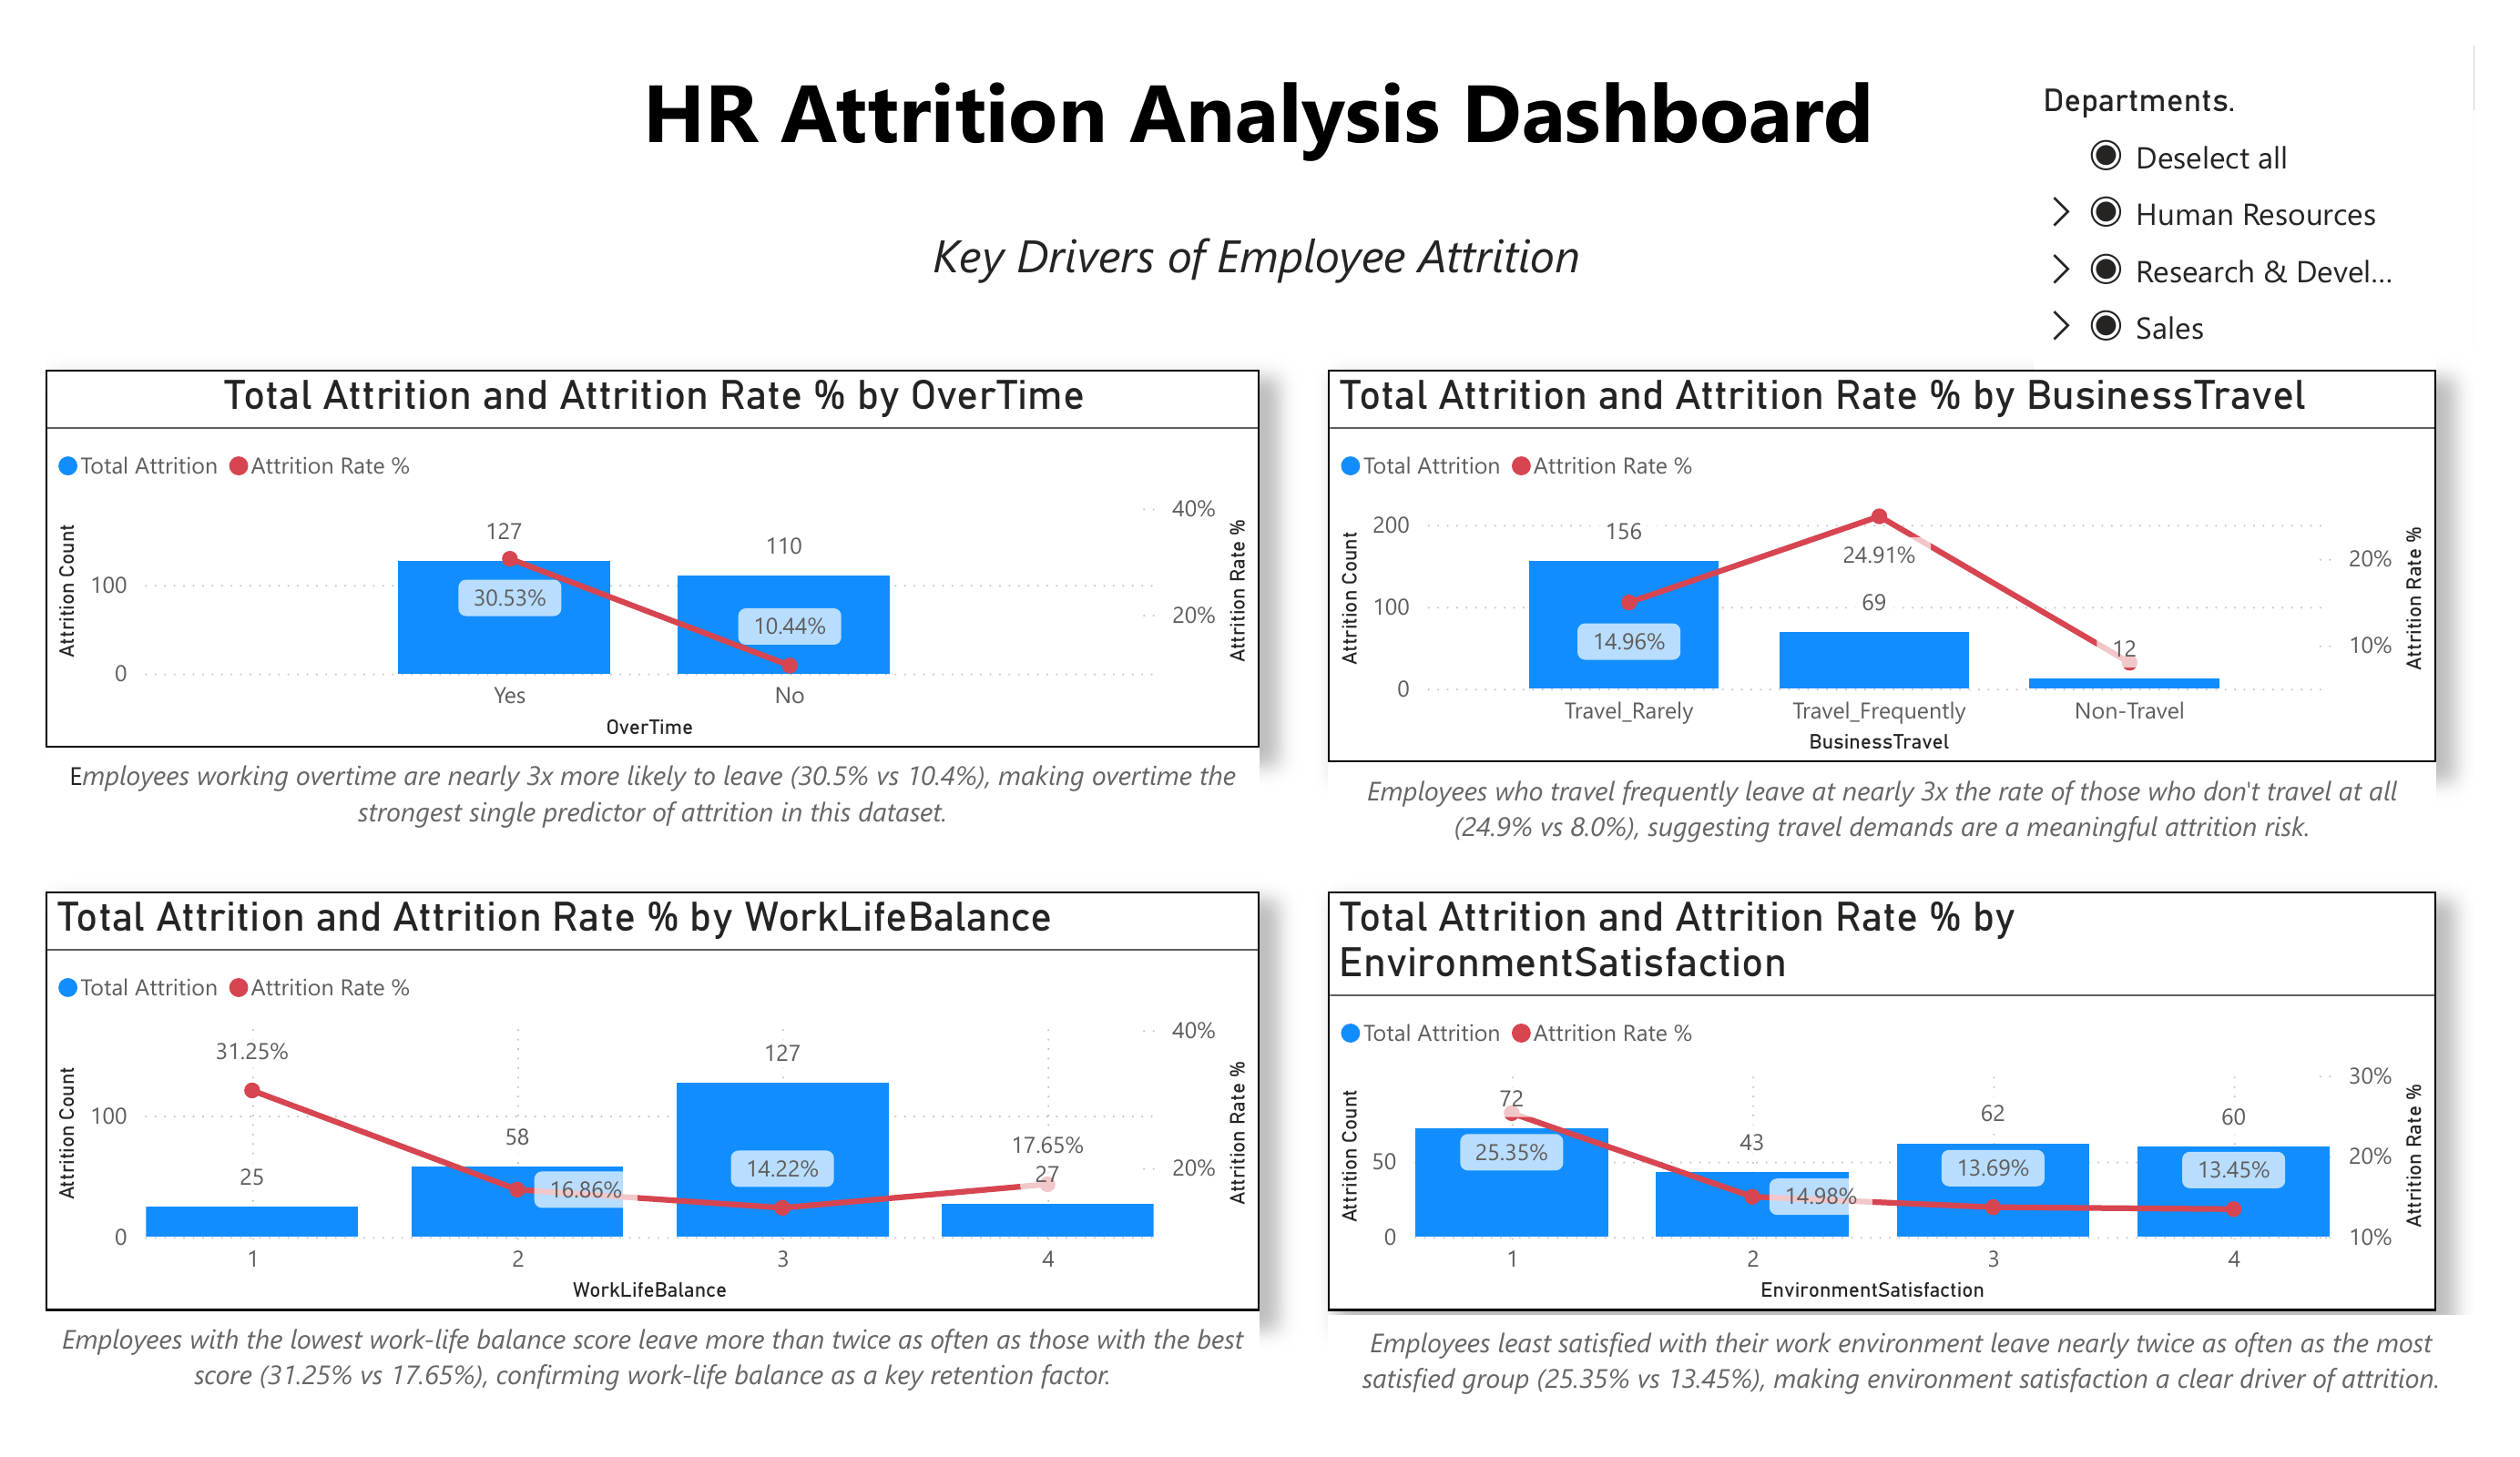

The dashboard page shown, as its layout file describes it:
{"tool":"powerbi","page":{"name":"Attrition Drivers","canvas":[1280,720],"ordinal":1},"visuals":[{"type":"lineStackedColumnComboChart","fields":{"Category":["hr - Copy.OverTime"],"Y2":["hr - Copy.Attrition Rate %"],"Y":["hr - Copy.Total Attrition"]},"box":[0,171.2,639.5,199],"z":0},{"type":"lineStackedColumnComboChart","fields":{"Y2":["hr - Copy.Attrition Rate %"],"Y":["hr - Copy.Total Attrition"],"Category":["hr - Copy.BusinessTravel"]},"box":[676.1,171.2,583.9,206.3],"z":1000},{"type":"lineStackedColumnComboChart","fields":{"Y2":["hr - Copy.Attrition Rate %"],"Y":["hr - Copy.Total Attrition"],"Category":["hr - Copy.WorkLifeBalance"]},"box":[0,446.3,639.5,221],"z":2000},{"type":"lineStackedColumnComboChart","fields":{"Y2":["hr - Copy.Attrition Rate %"],"Y":["hr - Copy.Total Attrition"],"Category":["hr - Copy.EnvironmentSatisfaction"]},"box":[676.1,446.3,583.9,221],"z":3000},{"type":"textbox","box":[0,370.2,639.5,55.6],"z":4000},{"type":"textbox","box":[676.1,377.6,583.9,48.3],"z":5000},{"type":"textbox","box":[0,667.3,639.5,52.7],"z":6000},{"type":"textbox","box":[676.1,668.8,604.4,51.2],"z":7000},{"type":"listSlicer","title":"Departments.","fields":{"Values":["hr - Copy.Department","hr - Copy.Gender"]},"box":[1047.8,19,212.2,152.2],"z":8000},{"type":"textbox","box":[276.6,0,725.9,67.3],"z":9000},{"type":"textbox","box":[361.5,89.3,554.6,46.8],"z":10000}]}

Visuals, with their boxes on the page's 1280x720 design canvas (x1, y1, x2, y2). These are canvas units, not pixel positions in the 2520x1457 screenshot, which may show the page scaled, cropped or inside an application window:
lineStackedColumnComboChart - hr - Copy.OverTime x hr - Copy.Attrition Rate %: <region>0, 171, 640, 370</region>
lineStackedColumnComboChart - hr - Copy.Attrition Rate % x hr - Copy.Total Attrition: <region>676, 171, 1260, 378</region>
lineStackedColumnComboChart - hr - Copy.Attrition Rate % x hr - Copy.Total Attrition: <region>0, 446, 640, 667</region>
lineStackedColumnComboChart - hr - Copy.Attrition Rate % x hr - Copy.Total Attrition: <region>676, 446, 1260, 667</region>
textbox: <region>0, 370, 640, 426</region>
textbox: <region>676, 378, 1260, 426</region>
textbox: <region>0, 667, 640, 720</region>
textbox: <region>676, 669, 1280, 720</region>
"Departments." listSlicer: <region>1048, 19, 1260, 171</region>
textbox: <region>277, 0, 1002, 67</region>
textbox: <region>362, 89, 916, 136</region>
